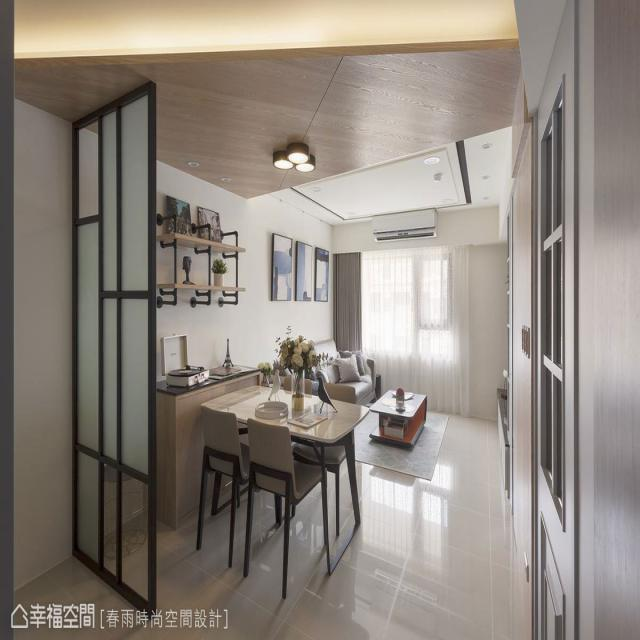table: (198, 370, 368, 584)
